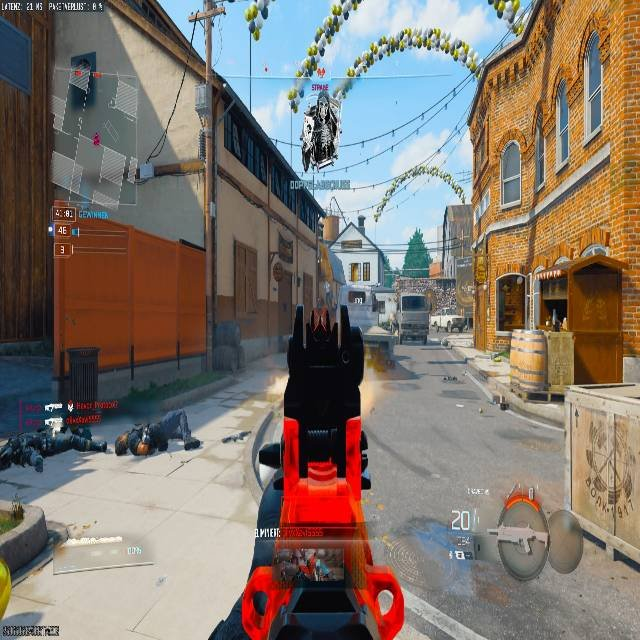head: (134, 436, 150, 456)
player: (447, 318, 453, 333)
